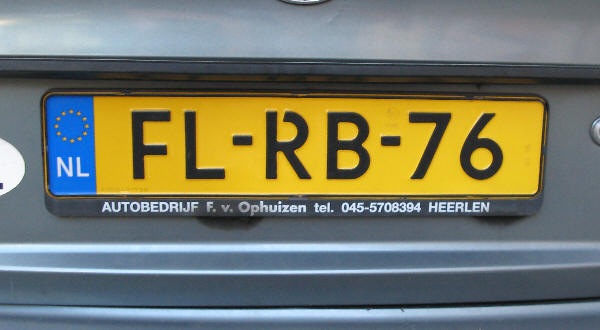license_plate: (41, 90, 547, 202)
